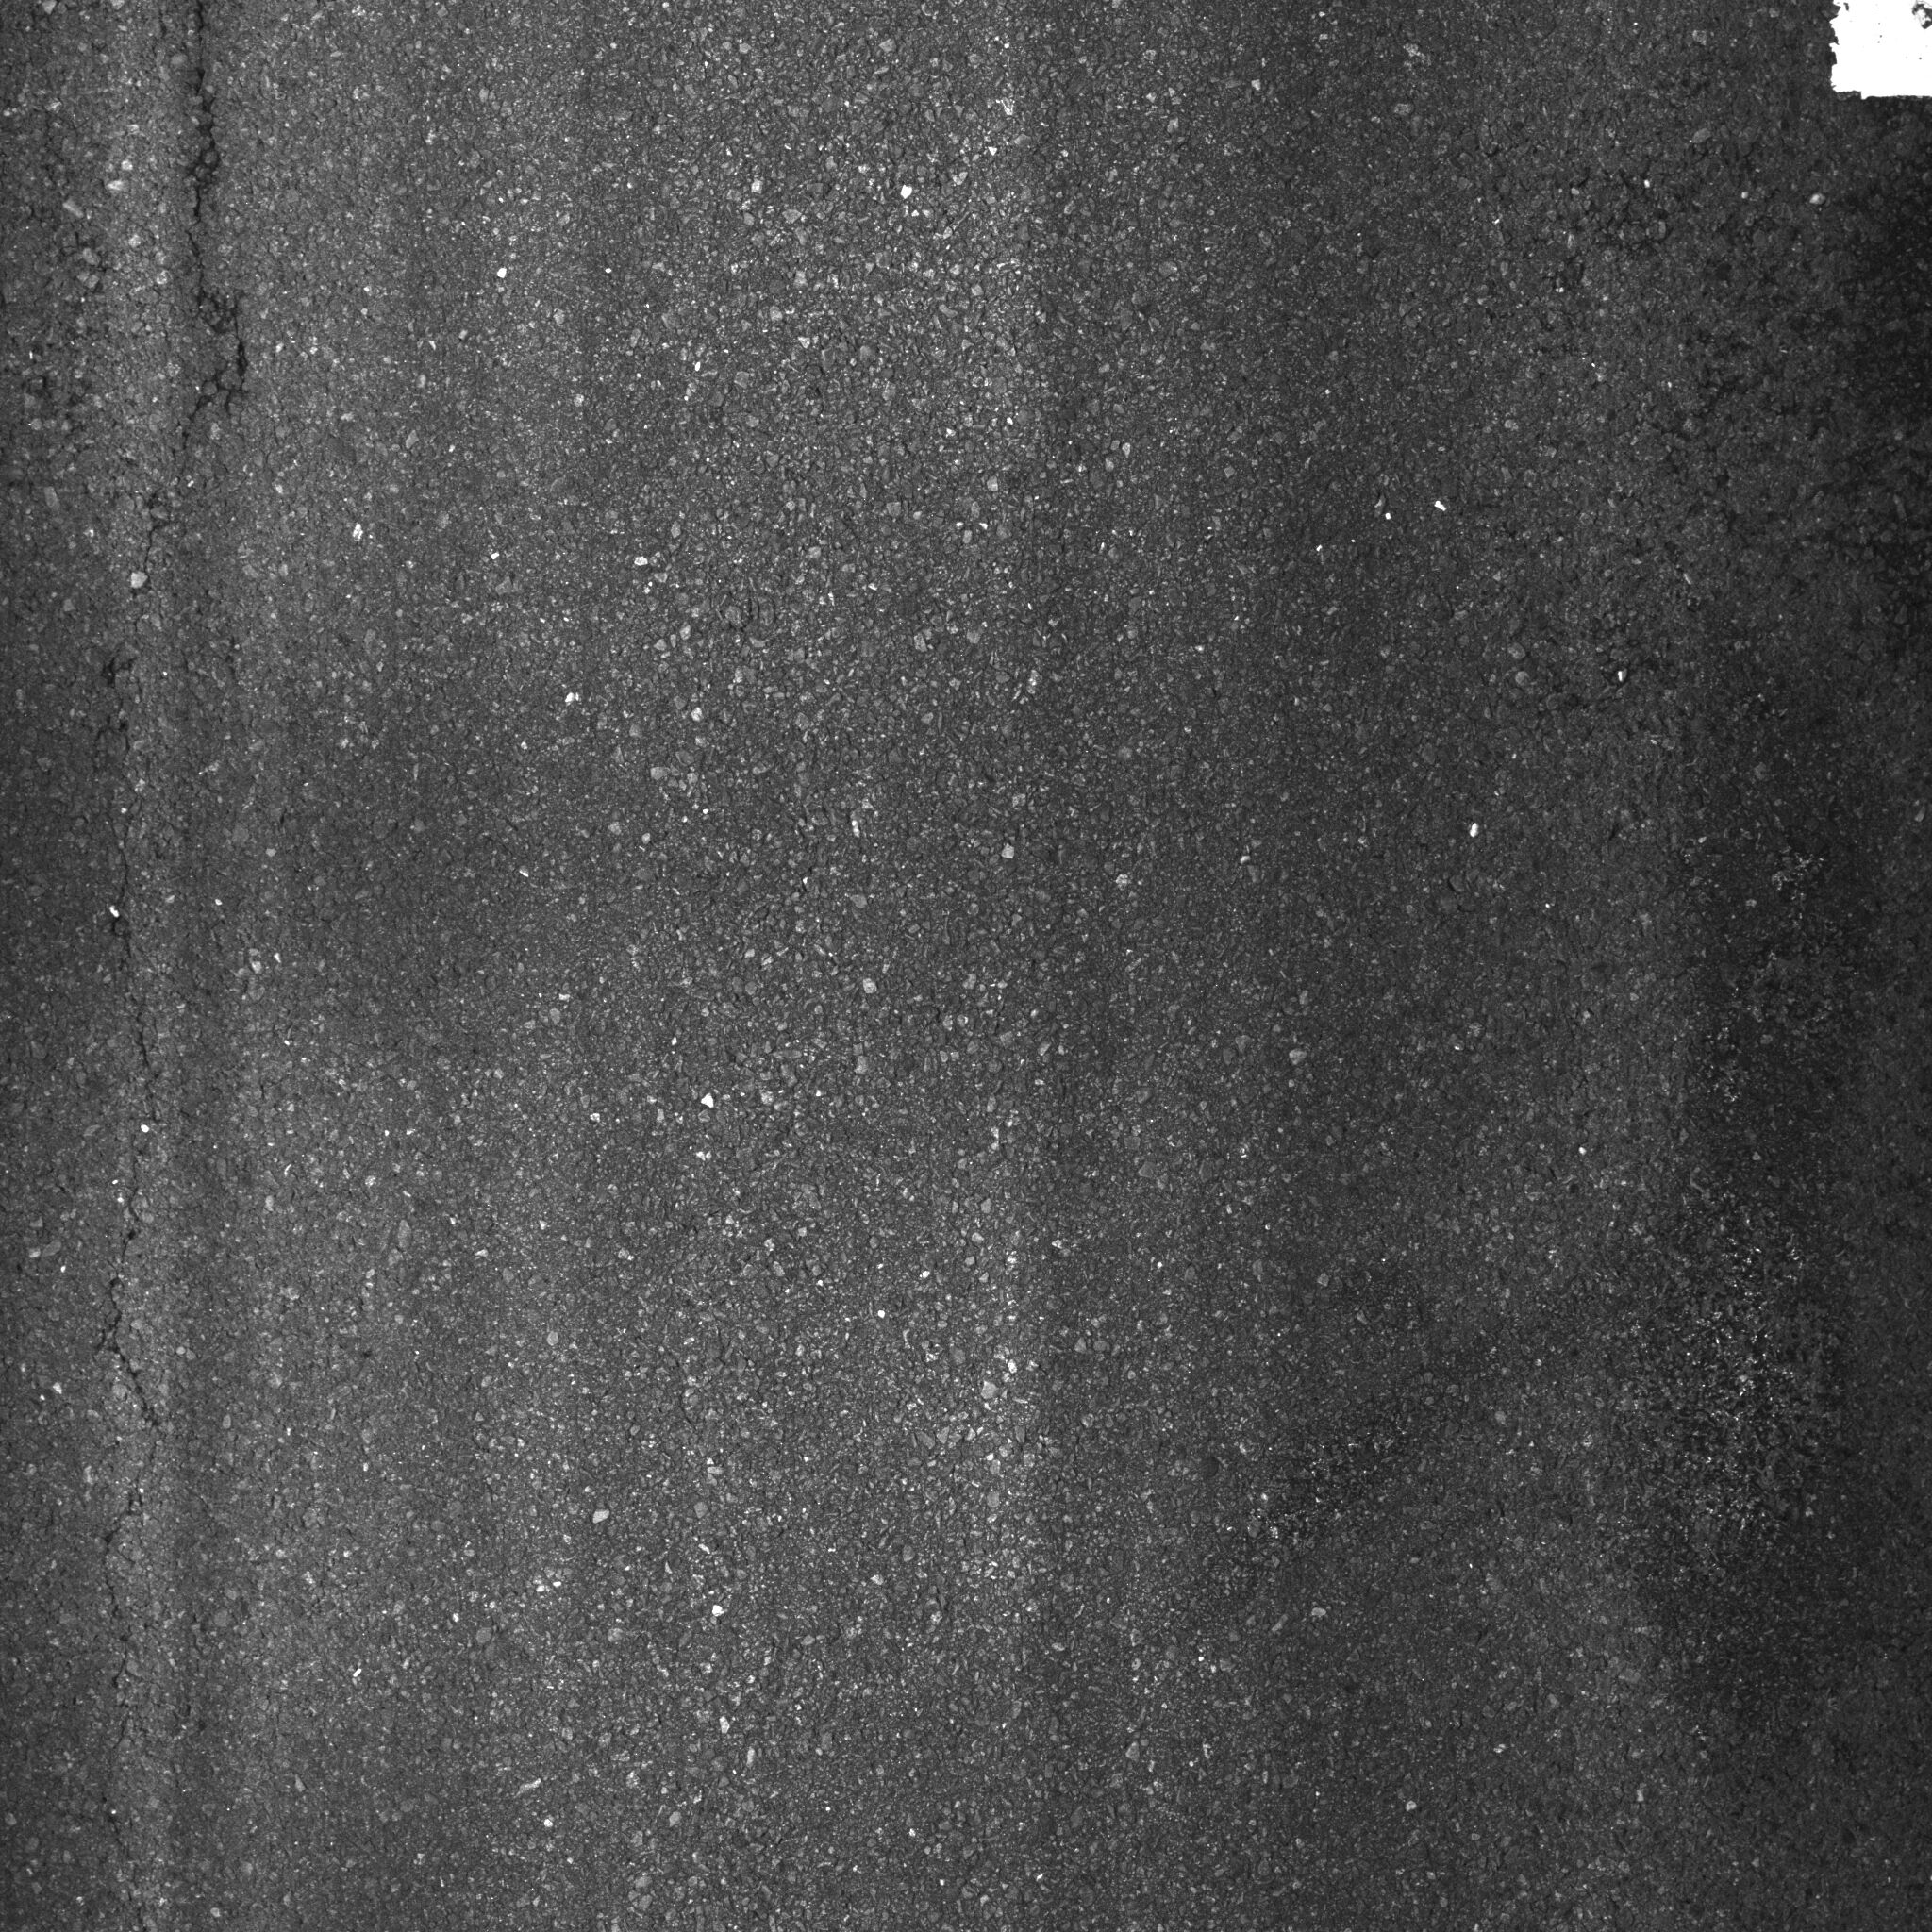longitudinal: (44, 5, 283, 1916)
